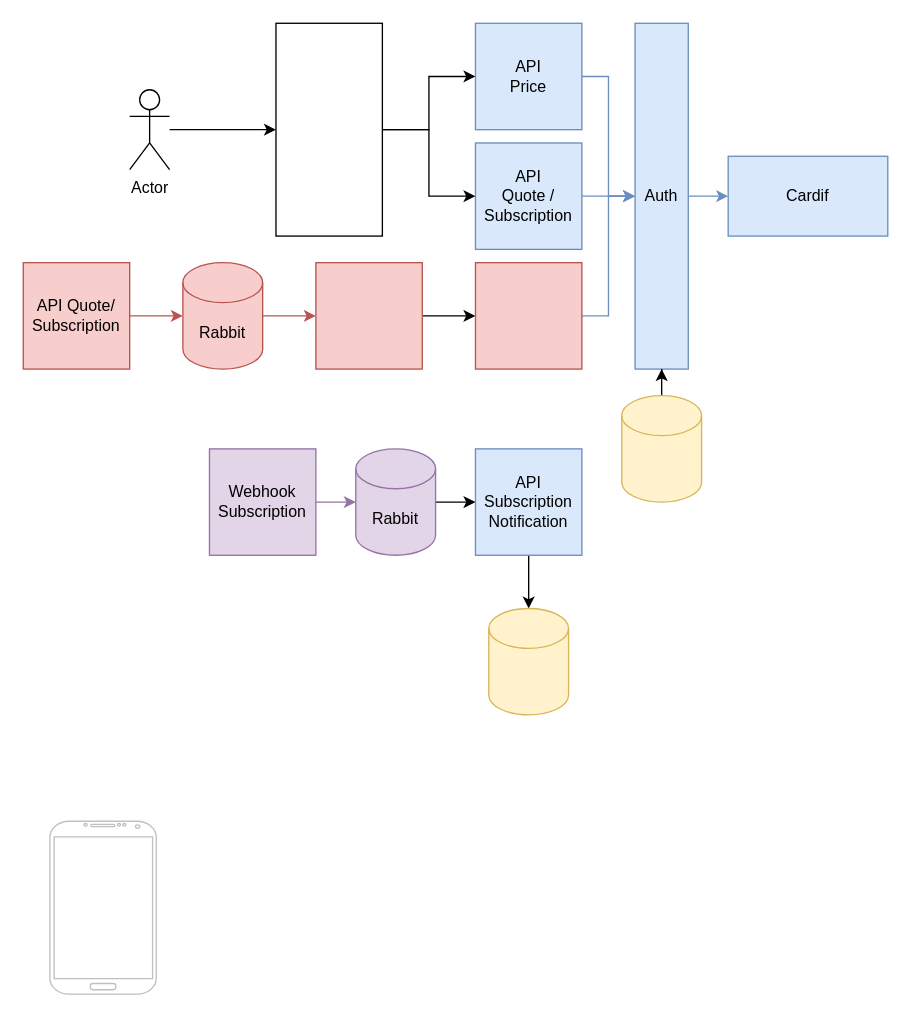
Image size: 911x1017. Some labels were removed from this diagram. The shapes that lost their labels are listed below. From the top down, each one's centre as x and y in pixels, then its label:
point 328,129: Business
point 368,315: Worker Subscription
point 528,315: API Subscription
point 661,448: Redis
point 528,661: SQL
